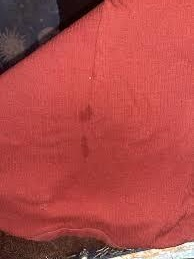oil: (72, 106, 98, 125), (75, 138, 88, 153)
